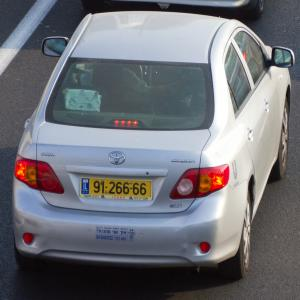Vehicle-registration-plate: (81, 180, 154, 203)
